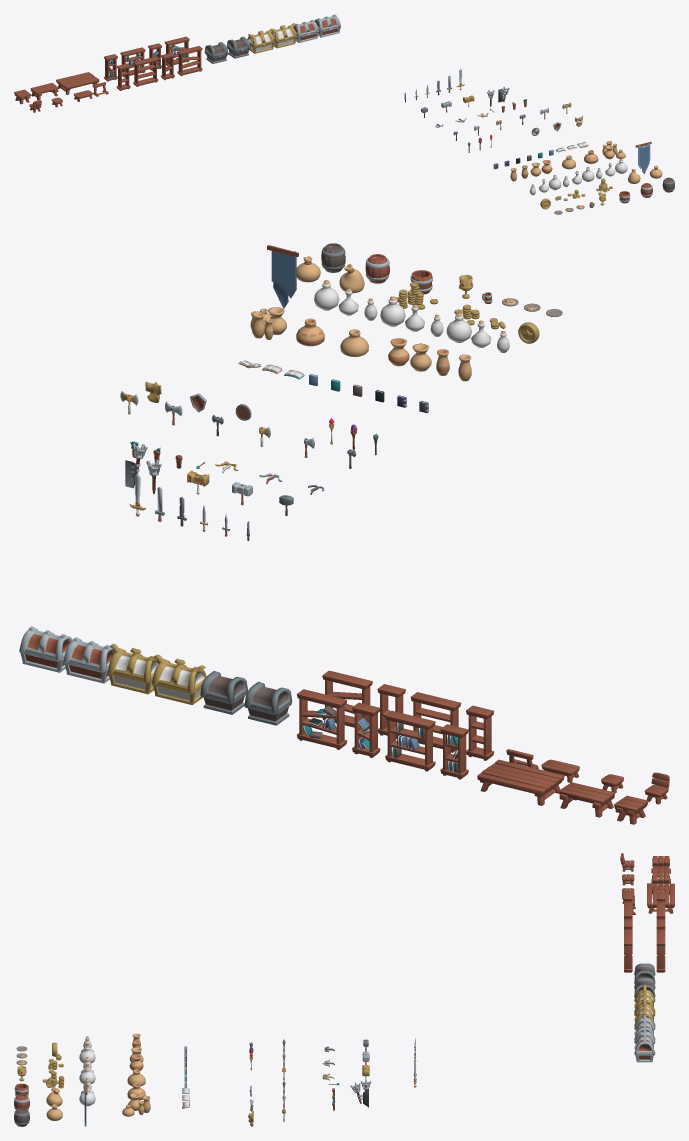
3 views of the same model, one above another, from view 1: azimuth 30°, elevation 25°; view 2: azimuth 150°, elevation 25°; view 3: azimuth 270°, elevation 25° (orthographic). The views are drawn at different scales.
Parts seen in each view (by area): view 1: bookcaseWide_broken, bookcaseWide, tableLarge, bookcaseWideFilled, bookcaseWideFilled_broken, chestTop_rare, banner, chestTop_rare_mimic, bookcaseFilled; view 2: bookcaseWideFilled, bookcaseWideFilled_broken, tableLarge, chestTop_rare, banner, bookcaseWide, chestTop_rare_mimic, bookcaseWide_broken, bookcaseFilled, bookcaseFilled_broken, bookcase, chestTop_uncommon_mimic (+5 smaller); view 3: tableLarge, pots, chestTop_uncommon_mimic.
Part boxes in pixels (<box>): bookcaseWide_broken: <box>177,46,202,76</box>; bookcaseWide: <box>133,56,158,86</box>; tableLarge: <box>56,72,99,94</box>; bookcaseWideFilled: <box>120,47,145,77</box>; bookcaseWideFilled_broken: <box>164,36,189,65</box>; chestTop_rare: <box>247,28,274,48</box>; banner: <box>635,141,651,174</box>; chestTop_rare_mimic: <box>271,23,296,43</box>; bookcaseFilled: <box>104,54,117,81</box>; bookcaseWideFilled: <box>385,711,435,771</box>; bookcaseWideFilled_broken: <box>296,689,347,749</box>; tableLarge: <box>477,759,564,805</box>; chestTop_rare: <box>151,654,206,694</box>; banner: <box>267,245,298,308</box>; bookcaseWide: <box>410,692,461,752</box>; chestTop_rare_mimic: <box>107,643,159,683</box>; bookcaseWide_broken: <box>322,670,372,727</box>; bookcaseFilled: <box>440,724,468,779</box>; bookcaseFilled_broken: <box>352,702,380,757</box>; bookcase: <box>466,705,494,760</box>; chestTop_uncommon_mimic: <box>19,626,72,662</box>; tableLarge: <box>647,883,674,913</box>; pots: <box>122,1093,150,1116</box>; chestTop_uncommon_mimic: <box>634,1030,655,1055</box>.
Bounding box in the file's own units: 37.2 × 2.77 × 40.34.
